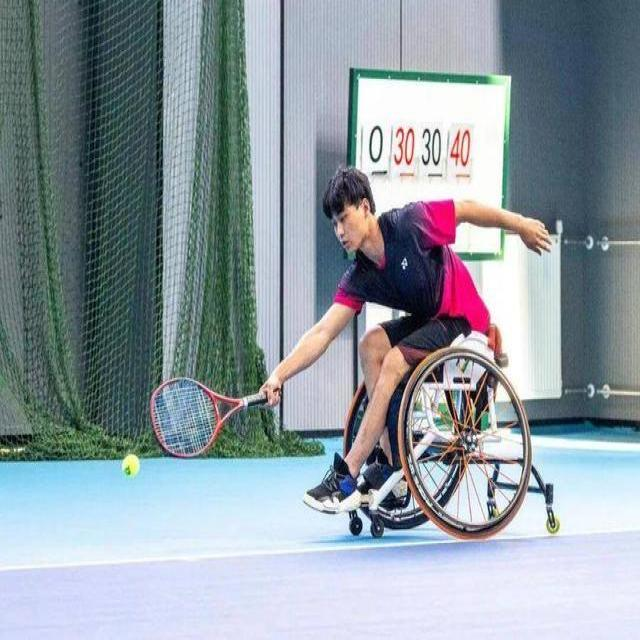wheelchairs: (337, 315, 572, 550)
